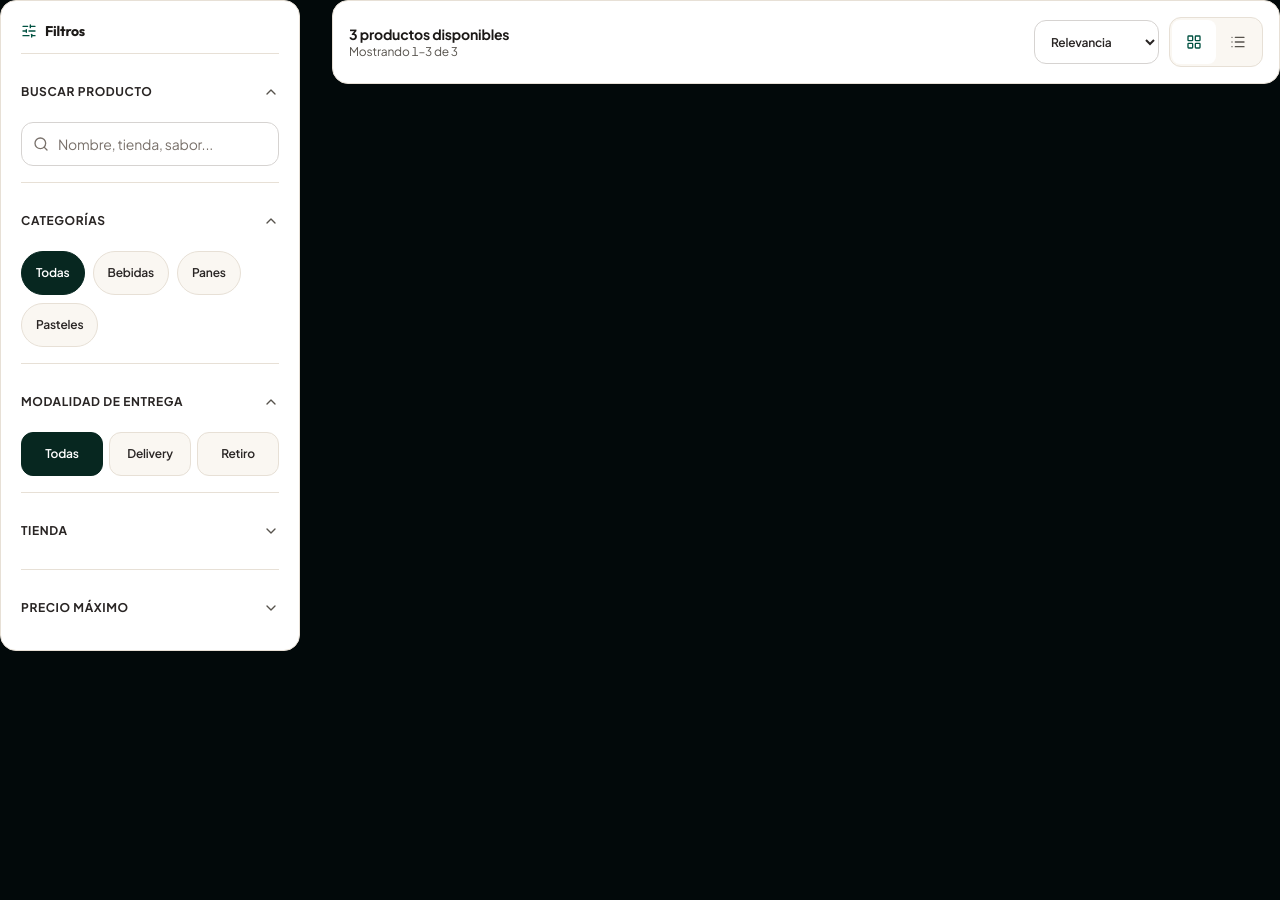
ProductsCatalogView Component › renders products, links correctly, and filters by category + syncs URL
Expected: the text "3 productos disponibles" is shown, [349, 24, 509, 44]
Expected: the text "Mostrando 1–3 de 3" is shown, [349, 44, 458, 59]
Click the button "Bebidas". click: (131, 273)
box: [92, 251, 169, 295]
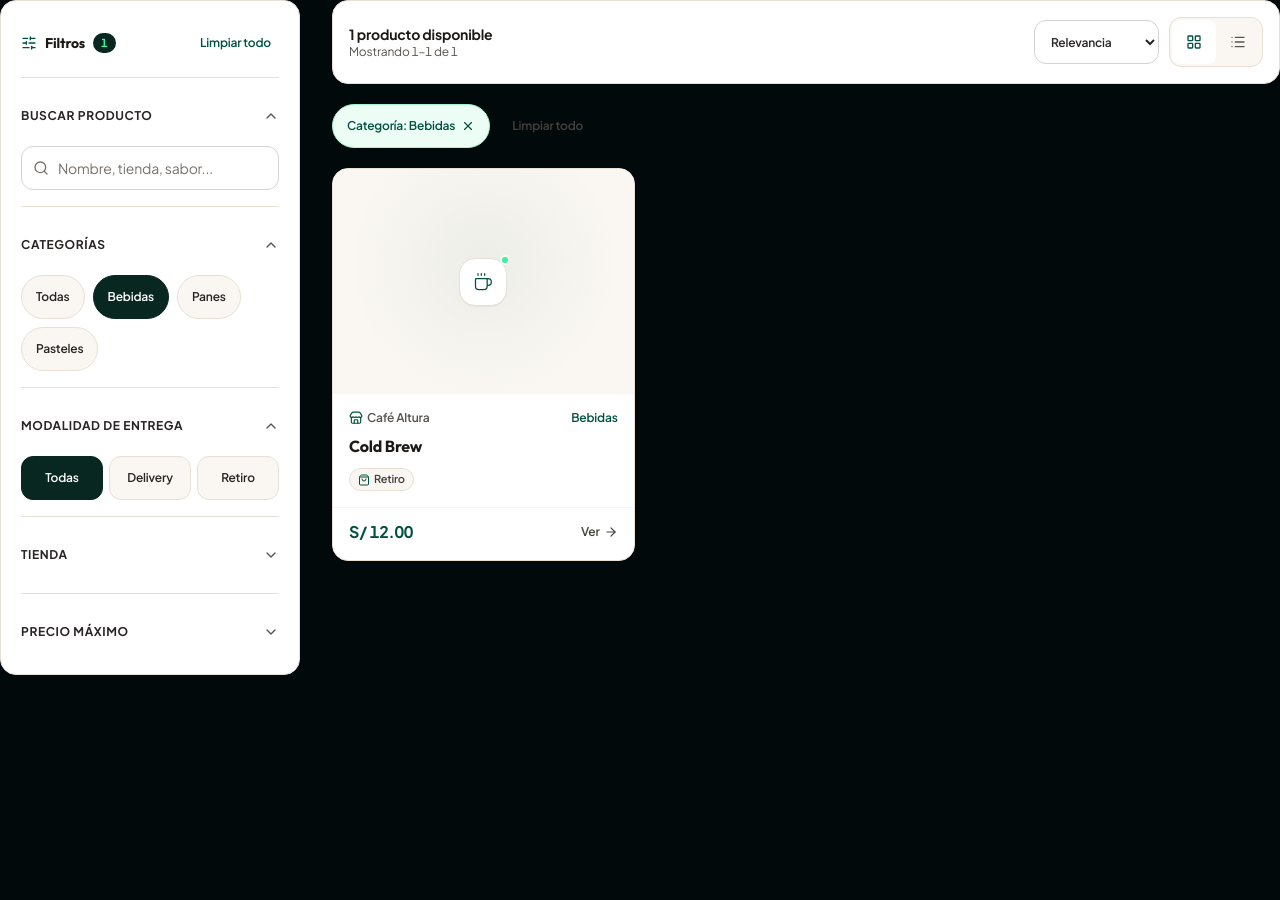
Expected: the text "1 producto disponible" is shown, [349, 24, 492, 44]
Expected: the heading "Cold Brew" is shown, [349, 436, 422, 456]
